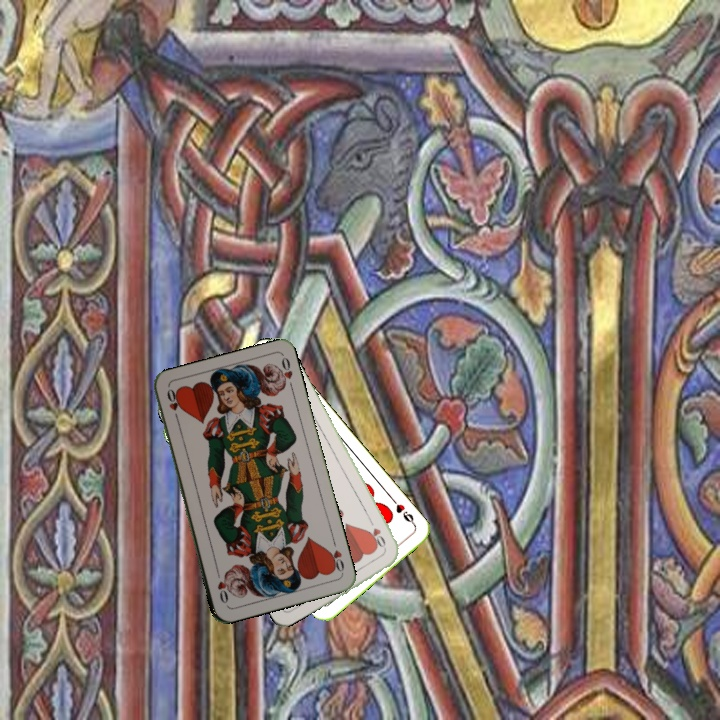H9: (388, 495, 418, 529)
HO: (324, 535, 347, 575), (365, 516, 389, 554), (163, 384, 182, 424)
